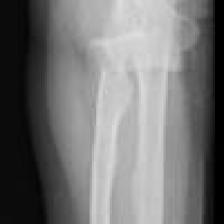longitudinal-fracture: (28, 0, 212, 224)
